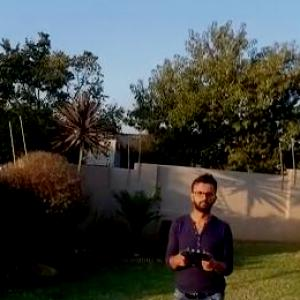follow: (160, 170, 238, 298)
